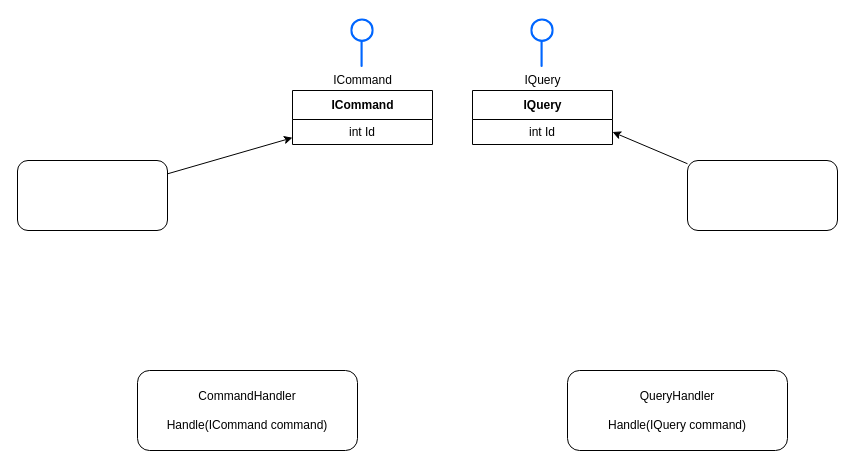
Some shapes in this 855 by 468 pixel diagram are drawn without their labels. The centre of each missing label's shape, as x and y in pixels:
"CancelOrderCommand * UserId * OrderId * Reason" belongs at pixel 92 195.
"GetOrderByDateQuery * FromDate * ToDate" belongs at pixel 762 195.
